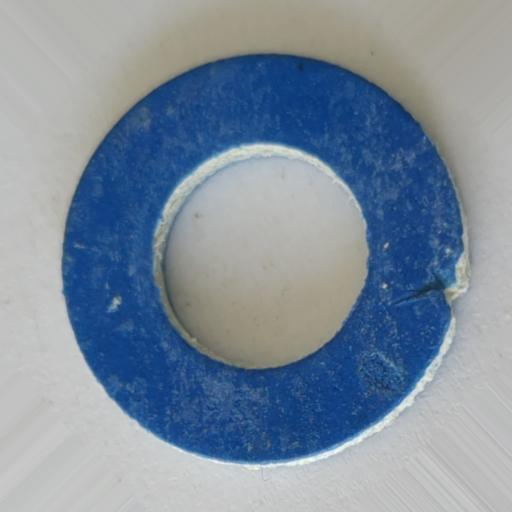defect: (394, 267, 469, 322)
